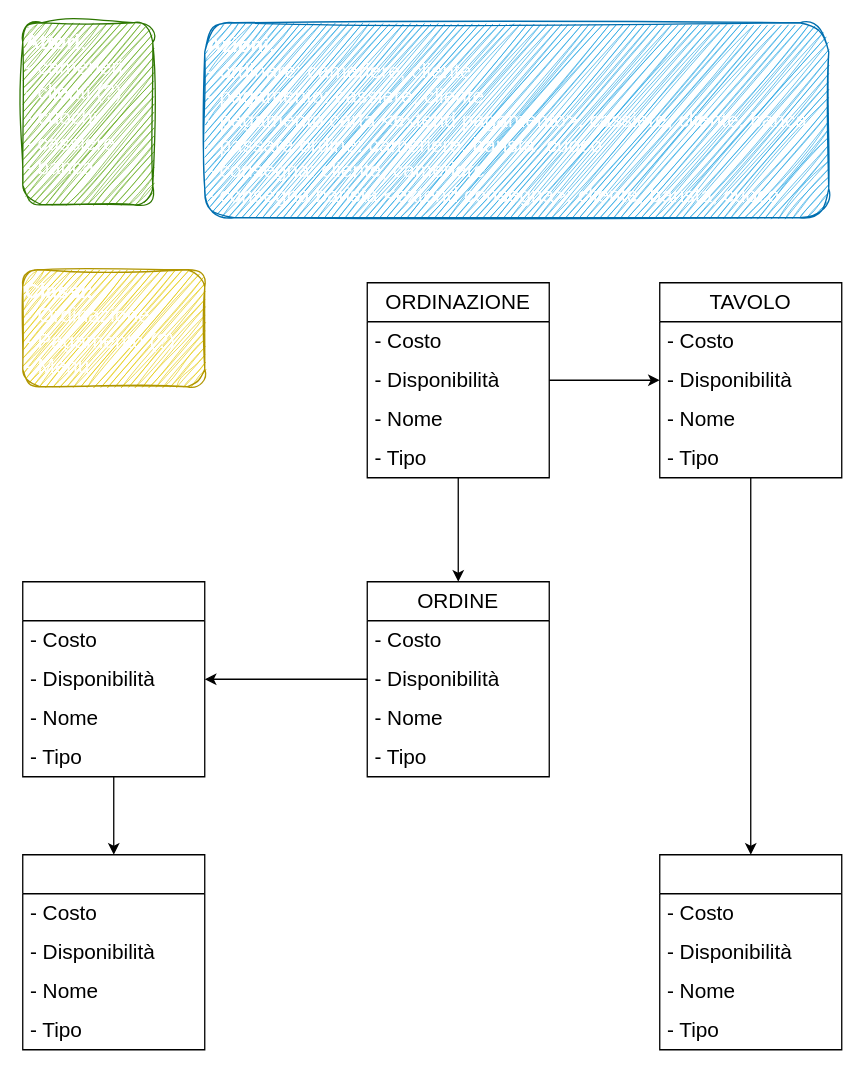
Some shapes in this 864 by 1073 pixel diagram are drawn without their labels. The box of each missing label's shape, as (x1, y1, x2, y2) in pixels:
ITEM: (21, 580, 205, 777)
MENU: (21, 853, 205, 1050)
PUB: (658, 853, 842, 1050)
